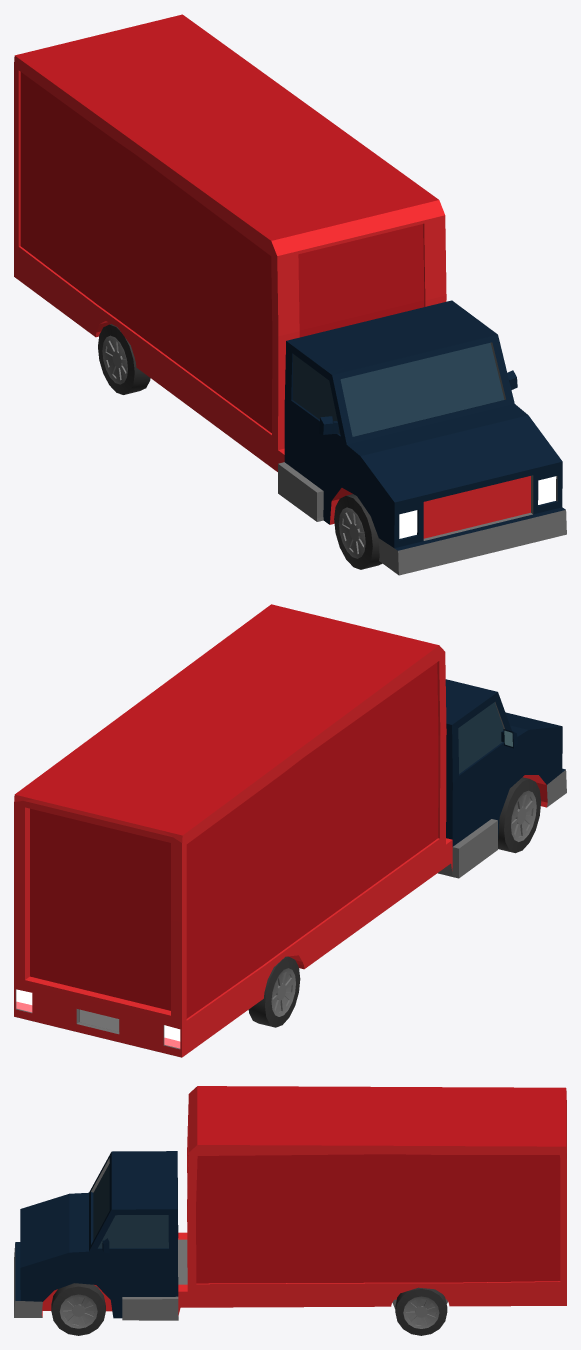
File: patela-truck.gltf
3 renders of one model, top to bottom at view 1: azimuth 30°, elevation 25°; view 2: azimuth 150°, elevation 25°; view 3: azimuth 270°, elevation 25°, orthographic. The views are drawn at different scales.
Parts seen in each view (by area): view 1: Cube.012_15, Cube.010_13, Cube.011_14, Cube.014_17, Cube.008_11, Wheel.001_19, Wheel.004_21, Cube.009_12; view 2: Cube.012_15, Cube.004_7, Cube.011_14, Cube.003_6, Cube.010_13, Wheel.001_19, Wheel.004_21, Cube.008_11, Cube.014_17, Cube.002_5, Cube_0, Cube.001_4; view 3: Cube.012_15, Cube.010_13, Cube.011_14, Cube.014_17, Wheel.003_18, Wheel.002_20, Cube.008_11, Cube.001_4.
Boxes of the visible parts, left/top/right/bottom form: Cube.012_15: left=15, top=14, right=438, bottom=432; Cube.010_13: left=284, top=300, right=565, bottom=550; Cube.011_14: left=14, top=56, right=530, bottom=538; Cube.014_17: left=293, top=342, right=504, bottom=436; Cube.008_11: left=278, top=462, right=566, bottom=575; Wheel.001_19: left=334, top=494, right=382, bottom=569; Wheel.004_21: left=98, top=324, right=150, bottom=394; Cube.009_12: left=399, top=476, right=556, bottom=538; Cube.012_15: left=15, top=604, right=438, bottom=1018; Cube.004_7: left=30, top=808, right=170, bottom=1010; Cube.011_14: left=182, top=645, right=524, bottom=1057; Cube.003_6: left=14, top=775, right=547, bottom=1057; Cube.010_13: left=445, top=679, right=565, bottom=846; Wheel.001_19: left=498, top=777, right=541, bottom=853; Wheel.004_21: left=248, top=956, right=300, bottom=1027; Cube.008_11: left=452, top=770, right=566, bottom=878; Cube.014_17: left=458, top=702, right=503, bottom=773; Cube.002_5: left=17, top=702, right=504, bottom=1055; Cube_0: left=15, top=989, right=180, bottom=1049; Cube.001_4: left=76, top=873, right=458, bottom=1034; Cube.012_15: left=188, top=1086, right=565, bottom=1283; Cube.010_13: left=15, top=1151, right=178, bottom=1318; Cube.011_14: left=42, top=1086, right=566, bottom=1315; Cube.014_17: left=93, top=1164, right=168, bottom=1248; Wheel.003_18: left=51, top=1283, right=105, bottom=1335; Wheel.002_20: left=395, top=1287, right=447, bottom=1335; Cube.008_11: left=14, top=1238, right=178, bottom=1320; Cube.001_4: left=178, top=1239, right=187, bottom=1318.
Bounding box in the file's own units: 1.31 × 1.71 × 4.48.
